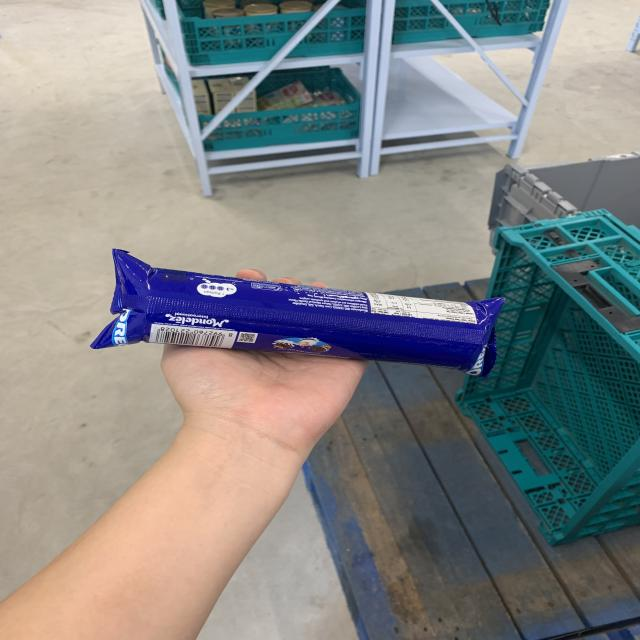object_name: (121, 267, 474, 362)
